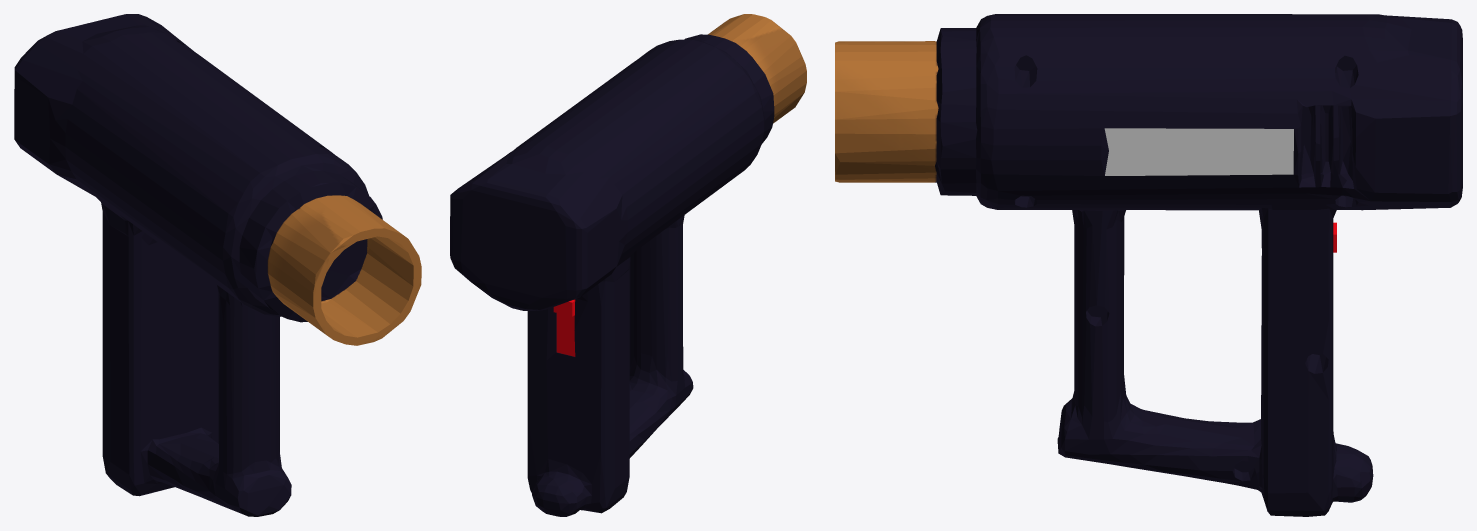
File: PistolaDeCalorV2_LOD.fbx
3 views of the same model, side by side, from view 1: azimuth 30°, elevation 25°; view 2: azimuth 150°, elevation 25°; view 3: azimuth 270°, elevation 25° (orthographic). The views are drawn at different scales.
Visible parts, largest first — view 1: PistolaCompleta_Text_LOD0; view 2: PistolaCompleta_Text_LOD0, Boton; view 3: PistolaCompleta_Text_LOD0.
Part boxes in pixels (x1,y1,x2,y2): PistolaCompleta_Text_LOD0: (14, 14, 421, 516); PistolaCompleta_Text_LOD0: (450, 14, 806, 516); Boton: (553, 299, 575, 356); PistolaCompleta_Text_LOD0: (835, 14, 1462, 516).
Size of what is drawn, in the model's own units: 10.22 by 26.43 by 31.66.
2 materials, 1 textured.
